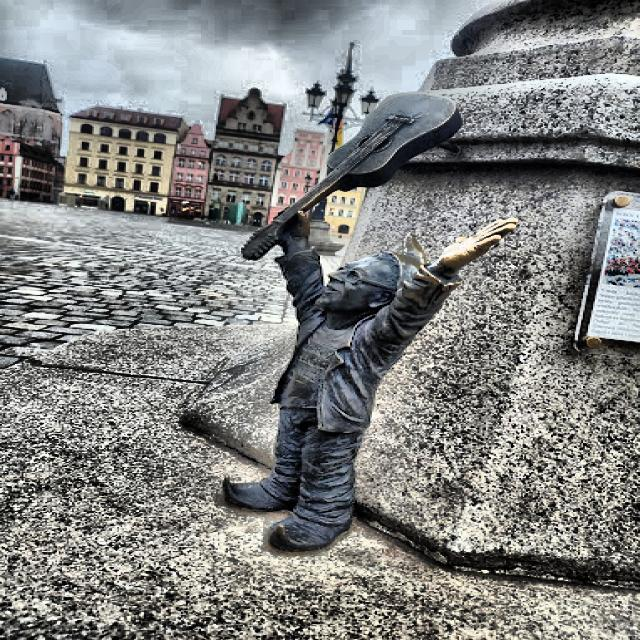Leszko_z_Wroclawia: (221, 94, 518, 553)
